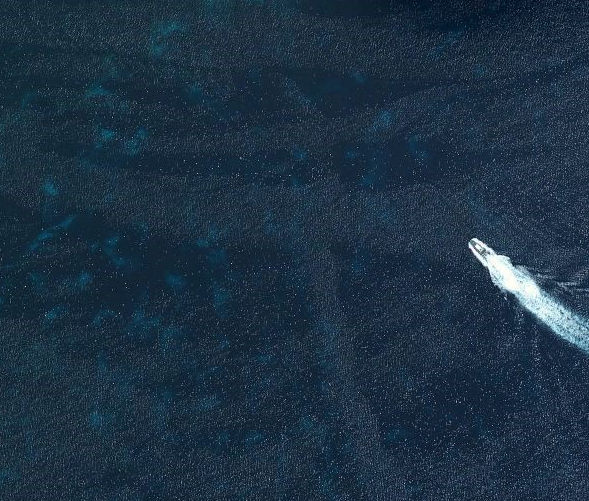ship: (464, 234, 500, 267)
